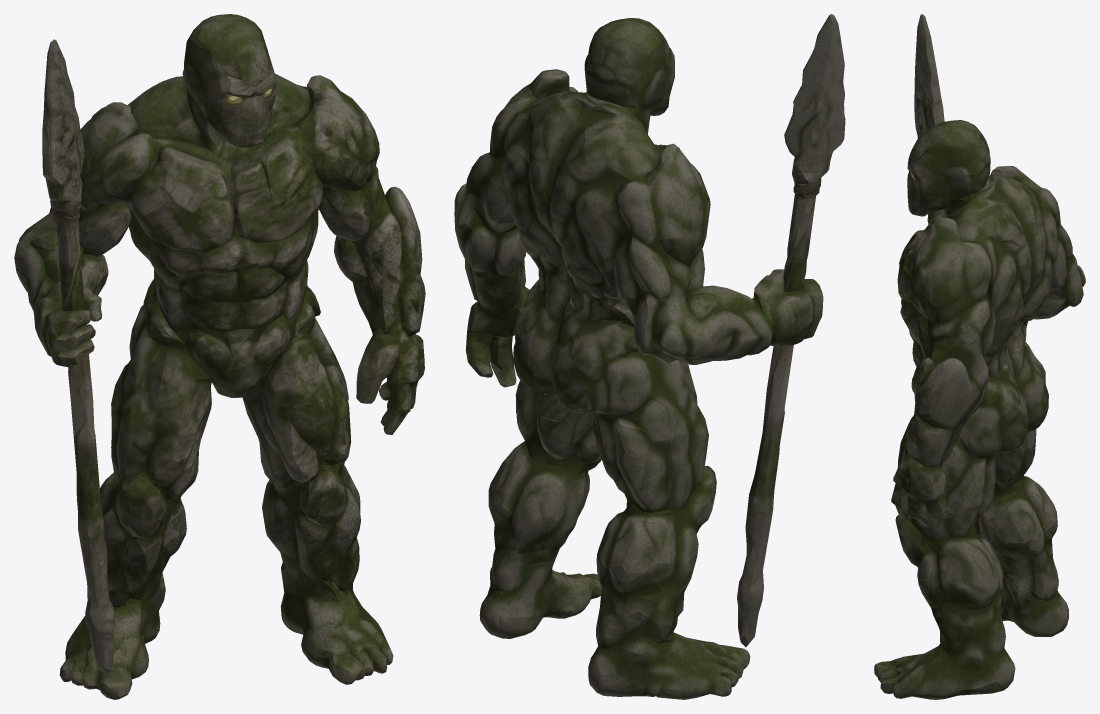
Rendered from Meshy_AI_Earth_Elemental_Remes_1110214138_texture.glb.
3 views of the same model, side by side, from view 1: azimuth 30°, elevation 25°; view 2: azimuth 150°, elevation 25°; view 3: azimuth 270°, elevation 25° (orthographic). The views are drawn at different scales.
Parts seen in each view (by area): view 1: output_unwrapped; view 2: output_unwrapped; view 3: output_unwrapped.
Boxes of the visible parts, x1,y1,x2,y2 form: output_unwrapped: [14, 14, 425, 699]; output_unwrapped: [454, 14, 845, 699]; output_unwrapped: [874, 14, 1085, 699].
Size of the model in its own units: 1.11 by 1.9 by 0.6504.
Materials: 1 (1 with a texture image).
